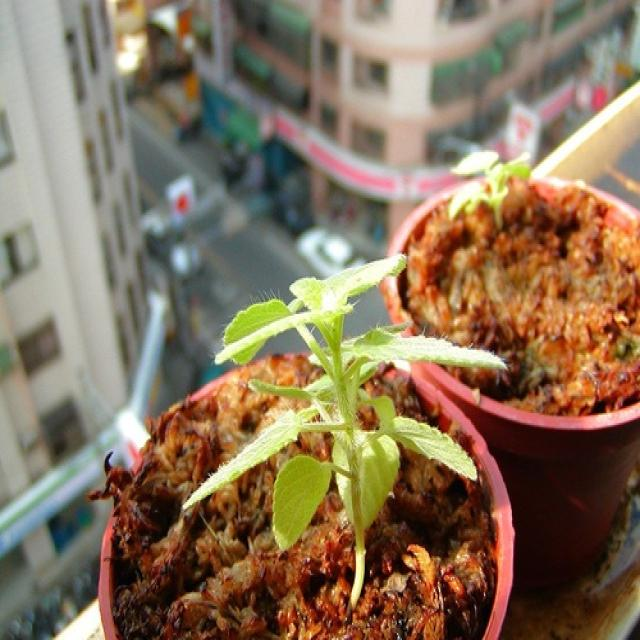pottedplant: (99, 254, 513, 635), (388, 152, 639, 578)
